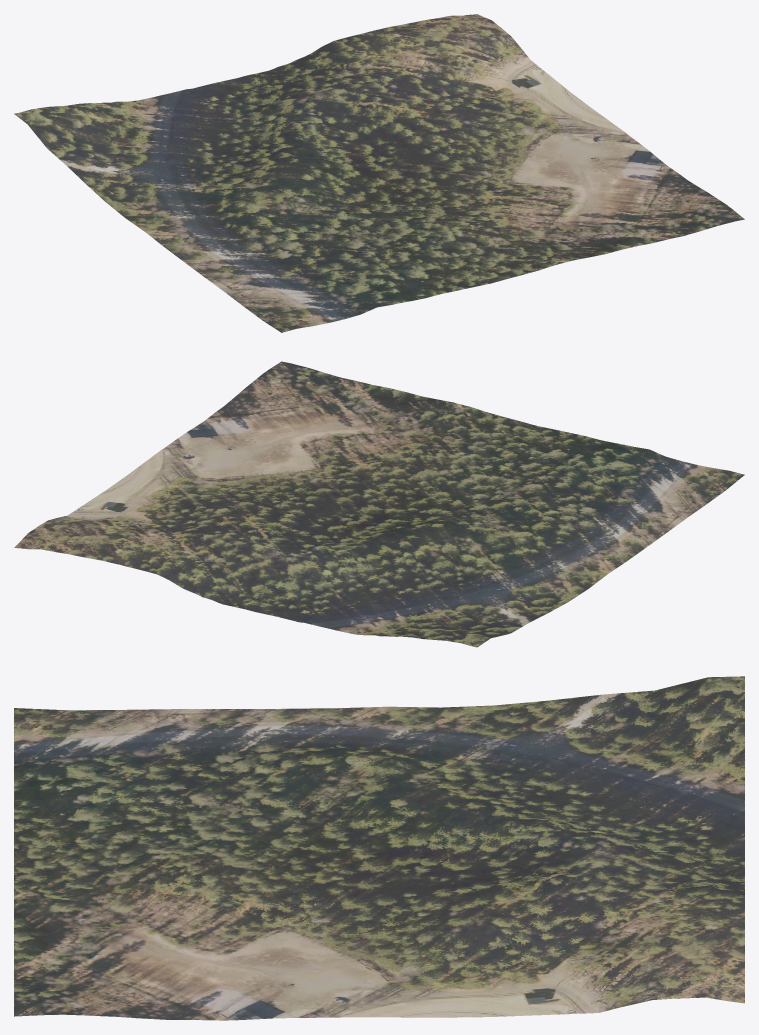
Rendered from CM_Terrain_24489025_6822251.fbx.
3 renders of one model, top to bottom at view 1: azimuth 30°, elevation 25°; view 2: azimuth 150°, elevation 25°; view 3: azimuth 270°, elevation 25°, orthographic. The views are drawn at different scales.
Parts seen in each view (by area): view 1: CM_Terrain_24489025_6822251_LOD0; view 2: CM_Terrain_24489025_6822251_LOD0; view 3: CM_Terrain_24489025_6822251_LOD0.
Part boxes in pixels (x1,y1,x2,y2): CM_Terrain_24489025_6822251_LOD0: [14, 14, 744, 332]; CM_Terrain_24489025_6822251_LOD0: [14, 361, 744, 647]; CM_Terrain_24489025_6822251_LOD0: [14, 676, 744, 1020].
Size of what is drawn, in the model's own units: 205 by 11.28 by 205.
